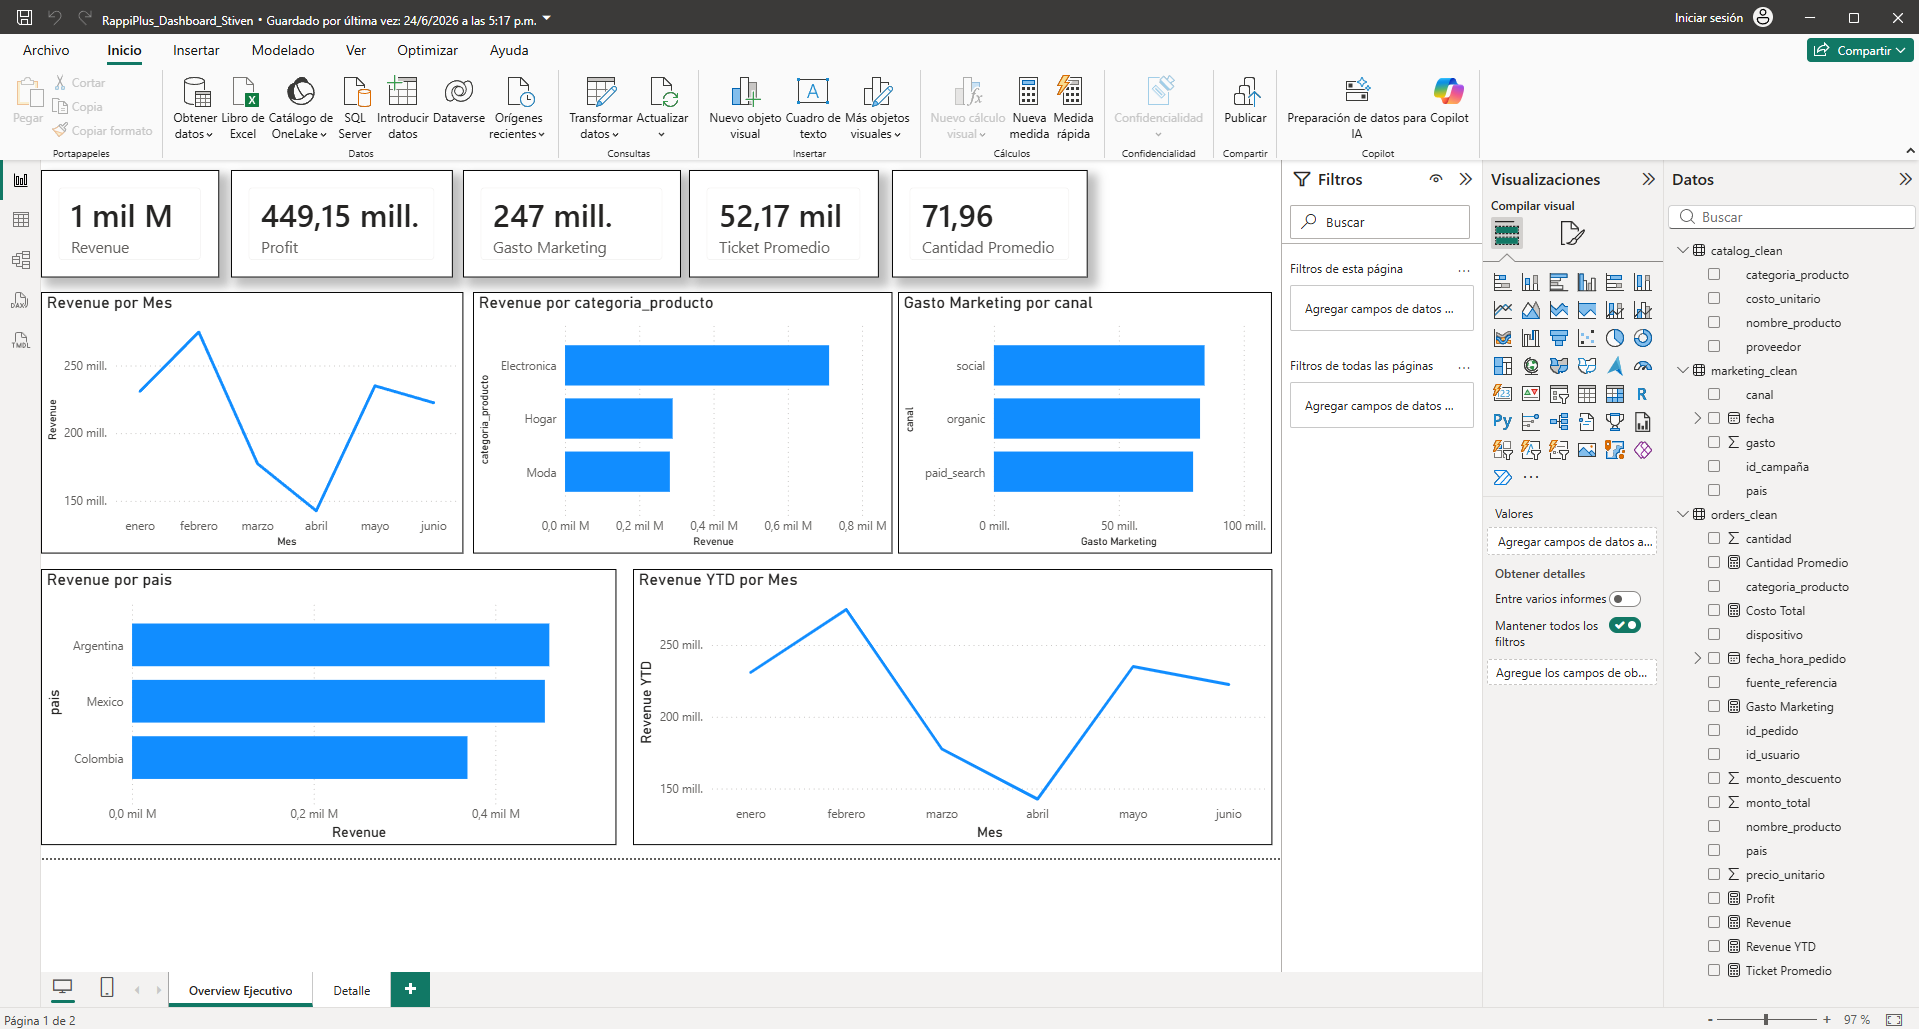

Layout of this report page (visuals, bound fields, positions):
{"tool":"powerbi","page":{"name":"Overview Ejecutivo","canvas":[1280,720],"ordinal":0},"visuals":[{"type":"cardVisual","fields":{"Data":["orders_clean.Revenue"]},"box":[0,9.9,184,111.4],"z":0},{"type":"cardVisual","fields":{"Data":["orders_clean.Profit"]},"box":[195.9,9.9,228.7,111.4],"z":1000},{"type":"cardVisual","fields":{"Data":["orders_clean.Gasto Marketing"]},"box":[435.6,9.9,224.8,111.4],"z":2000},{"type":"cardVisual","fields":{"Data":["orders_clean.Ticket Promedio"]},"box":[669.3,9.9,195.9,111.4],"z":3000},{"type":"cardVisual","fields":{"Data":["orders_clean.Cantidad Promedio"]},"box":[878.2,9.9,201.9,111.4],"z":4000},{"type":"lineChart","fields":{"Category":["orders_clean.fecha_hora_pedido.Variación.Jerarquía de fechas.Mes"],"Y":["orders_clean.Revenue"]},"box":[0,136.3,435.6,269.5],"z":5000},{"type":"barChart","fields":{"Y":["orders_clean.Revenue"],"Category":["orders_clean.categoria_producto"]},"box":[445.6,136.3,432.6,269.5],"z":6000},{"type":"clusteredBarChart","fields":{"Category":["marketing_clean.canal"],"Y":["orders_clean.Gasto Marketing"]},"box":[885.2,136.3,385.9,269.5],"z":6001},{"type":"clusteredBarChart","fields":{"Category":["orders_clean.pais"],"Y":["orders_clean.Revenue"]},"box":[0,422.7,593.8,285.4],"z":6002},{"type":"lineChart","fields":{"Category":["orders_clean.fecha_hora_pedido.Variación.Jerarquía de fechas.Mes"],"Y":["orders_clean.Revenue YTD"]},"box":[610.7,422.7,660.4,285.4],"z":6003}]}

Visuals, with their boxes on the page's 1280x720 design canvas (x1, y1, x2, y2). These are canvas units, not pixel positions in the 1919x1029 screenshot, which may show the page scaled, cropped or inside an application window:
cardVisual - orders_clean.Revenue: bbox=[0, 10, 184, 121]
cardVisual - orders_clean.Profit: bbox=[196, 10, 425, 121]
cardVisual - orders_clean.Gasto Marketing: bbox=[436, 10, 660, 121]
cardVisual - orders_clean.Ticket Promedio: bbox=[669, 10, 865, 121]
cardVisual - orders_clean.Cantidad Promedio: bbox=[878, 10, 1080, 121]
lineChart - orders_clean.fecha_hora_pedido.Variación.Jerarquía de fechas.Mes x orders_clean.Revenue: bbox=[0, 136, 436, 406]
barChart - orders_clean.Revenue x orders_clean.categoria_producto: bbox=[446, 136, 878, 406]
clusteredBarChart - marketing_clean.canal x orders_clean.Gasto Marketing: bbox=[885, 136, 1271, 406]
clusteredBarChart - orders_clean.pais x orders_clean.Revenue: bbox=[0, 423, 594, 708]
lineChart - orders_clean.fecha_hora_pedido.Variación.Jerarquía de fechas.Mes x orders_clean.Revenue YTD: bbox=[611, 423, 1271, 708]
